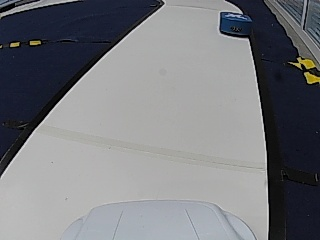prop: (220, 11, 252, 37)
